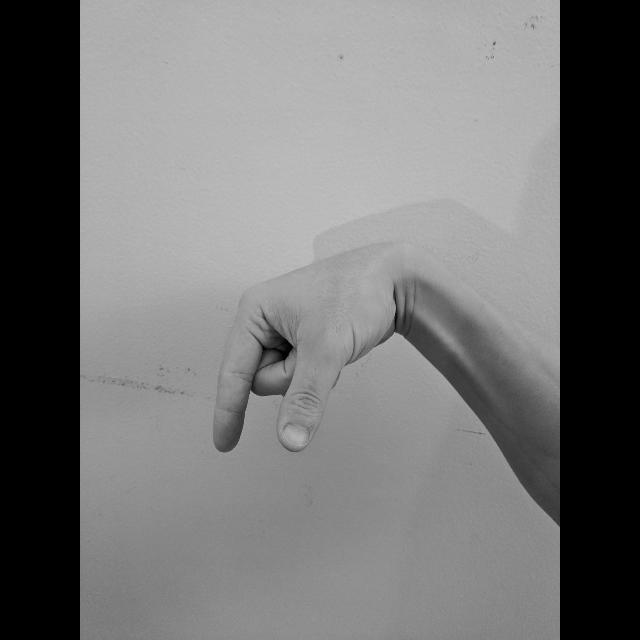Q: (206, 238, 402, 464)
